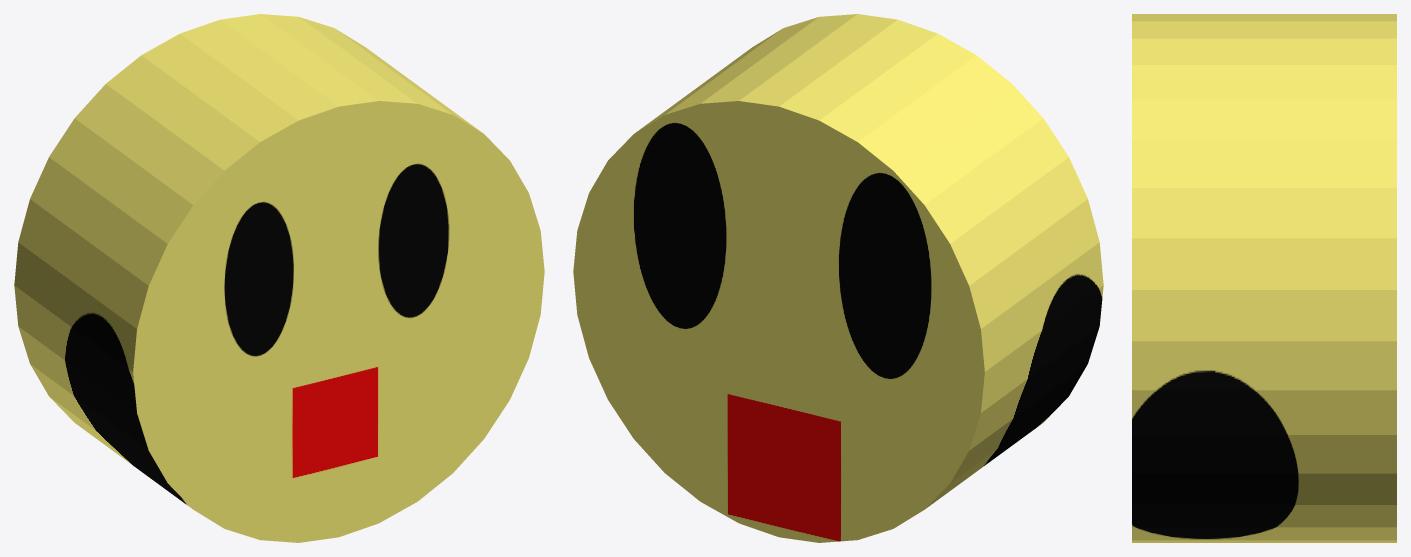
File: Enemy.obj
3 renders of one model, left to right at view 1: azimuth 30°, elevation 25°; view 2: azimuth 150°, elevation 25°; view 3: azimuth 270°, elevation 25°, orthographic. The views are drawn at different scales.
Visible parts, largest first — view 1: 円柱; view 2: 円柱; view 3: 円柱.
Part boxes in pixels (box(x1,y1,x2,y2)): 円柱: box(14, 14, 544, 542); 円柱: box(573, 14, 1103, 542); 円柱: box(1132, 14, 1396, 542).
Bounding box in the file's own units: 2 × 2 × 1.
1 material, 1 textured.
